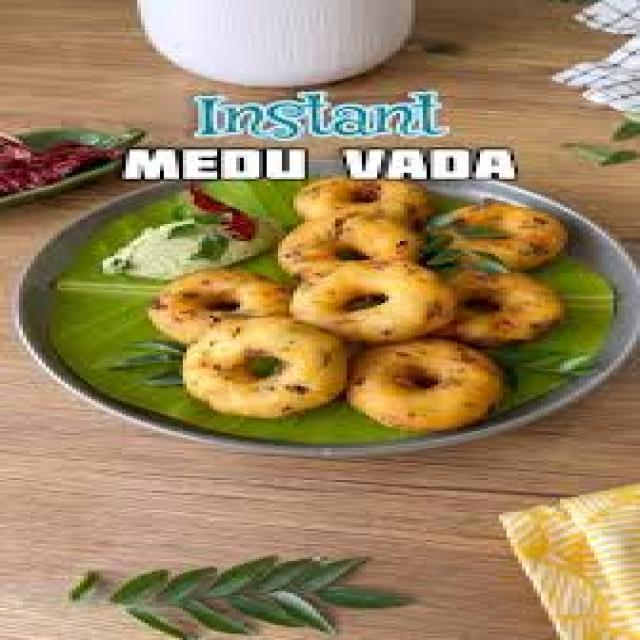MEDU VADA: (183, 320, 343, 416), (350, 339, 499, 429), (293, 260, 453, 339), (278, 207, 419, 277), (149, 269, 286, 341), (434, 201, 564, 269), (450, 271, 560, 343), (297, 177, 430, 228)
